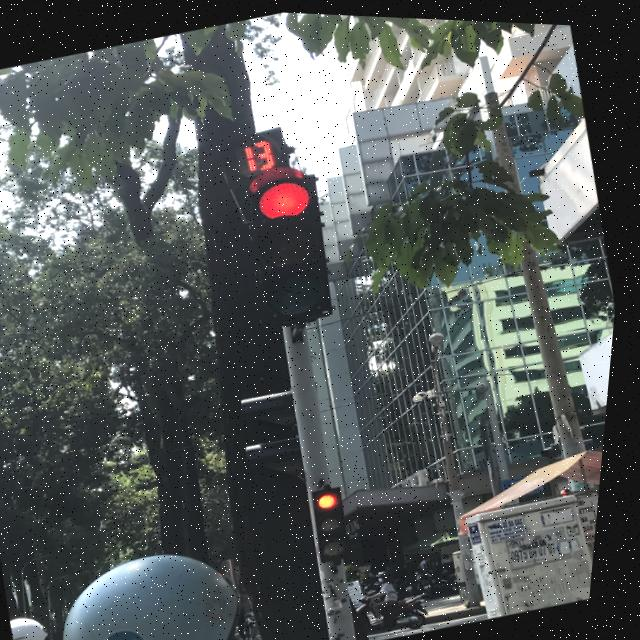Red: (231, 158, 362, 333), (310, 474, 374, 559)
